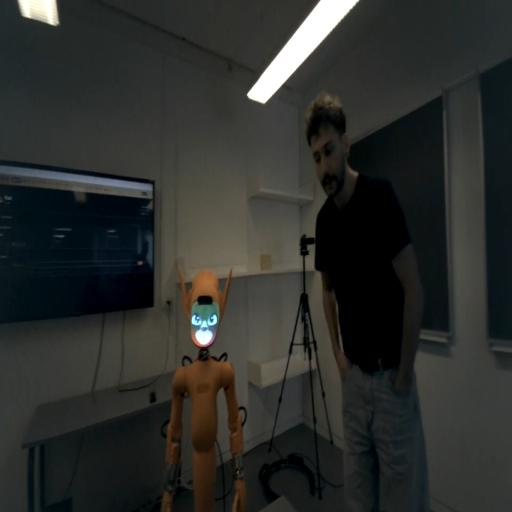Robot: (189, 277, 222, 352)
